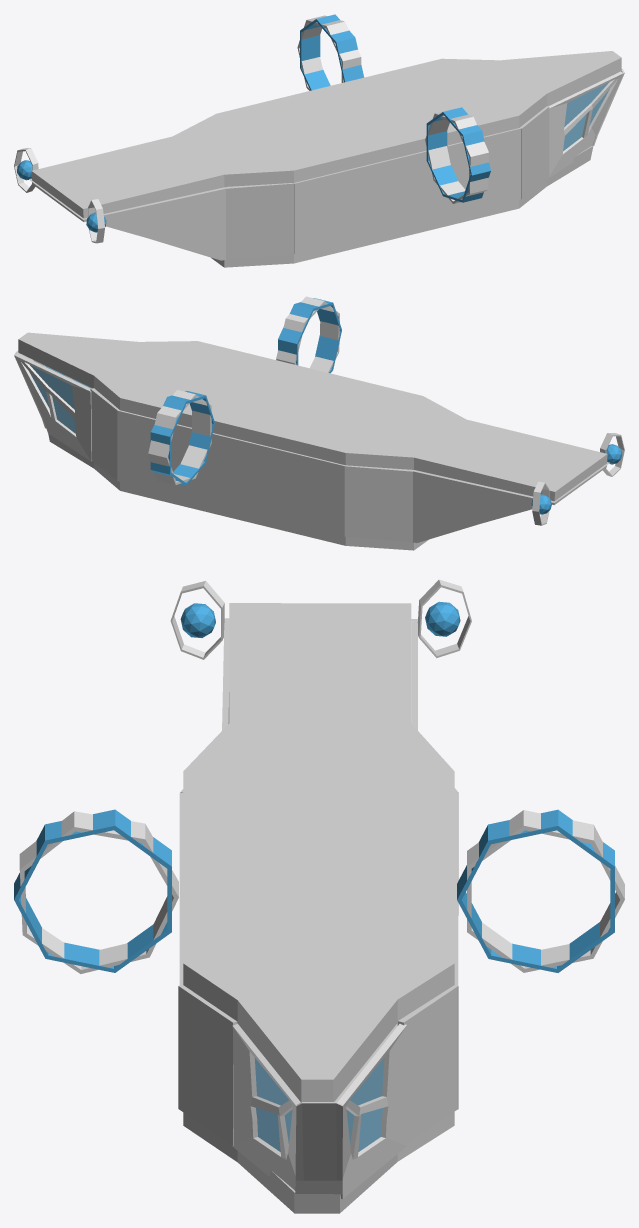
File: NaveRevisited.fbx
The picture shows the model from 3 angles, top to bottom: view 1: azimuth 30°, elevation 25°; view 2: azimuth 150°, elevation 25°; view 3: azimuth 270°, elevation 25°; orthographic projection. The views are drawn at different scales.
Parts seen in each view (by area): view 1: Techo, ParedDer, ParedDerCompuerta, ParedDerTrasera, lado iz.001, Suelo, Rotor, ParedIDerFrontal, Rotor.004, Rotor.005, Rotor.001, Rotor.002 (+1 smaller); view 2: Techo, ParedIzq, ParedDerCompuerta.001, ParedIzqTrasera, lado der, Suelo, Rotor.001, Rotor.005, ParedIzqFrontal, Rotor, Rotor.004, Rotor.003 (+1 smaller); view 3: Techo, lado der, lado iz.001, ParedIDerFrontal, ParedIzqFrontal, Rotor, Rotor.005, Frontal, Suelo, Rotor.001, Rotor.004, ParedIzq (+5 smaller).
Boxes of the visible parts, x1,y1,x2,y2 form: Techo: (31, 51, 621, 222); ParedDer: (294, 128, 520, 253); ParedDerCompuerta: (83, 187, 225, 260); ParedDerTrasera: (225, 183, 294, 259); lado iz.001: (547, 71, 624, 178); Suelo: (211, 146, 593, 267); Rotor: (426, 107, 490, 202); ParedIDerFrontal: (519, 106, 549, 199); Rotor.004: (425, 109, 488, 203); Rotor.005: (300, 14, 364, 90); Rotor.001: (297, 15, 361, 90); Rotor.002: (88, 199, 104, 243); Techo: (18, 332, 607, 505); ParedIzq: (117, 409, 345, 536); ParedDerCompuerta.001: (412, 470, 554, 542); ParedIzqTrasera: (344, 465, 412, 541); lado der: (15, 354, 91, 461); Suelo: (48, 434, 428, 550); Rotor.001: (148, 390, 211, 484); Rotor.005: (150, 391, 214, 485); ParedIzqFrontal: (90, 388, 119, 480); Rotor: (278, 298, 341, 373); Rotor.004: (276, 296, 339, 372); Rotor.003: (532, 481, 549, 525); Techo: (183, 603, 454, 1102); lado der: (337, 1024, 406, 1198); lado iz.001: (232, 1023, 300, 1190); ParedIDerFrontal: (178, 984, 237, 1145); ParedIzqFrontal: (397, 985, 458, 1143); Rotor: (14, 809, 171, 972); Rotor.005: (457, 809, 614, 972); Frontal: (295, 1102, 342, 1194); Suelo: (183, 1023, 454, 1213); Rotor.001: (467, 810, 624, 972); Rotor.004: (19, 811, 178, 973); ParedIzq: (453, 793, 458, 1109).
Bounding box in the file's own units: 8846 × 2008 × 4741.
